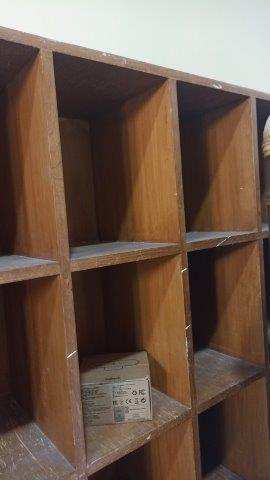kardus: (80, 351, 152, 424)
